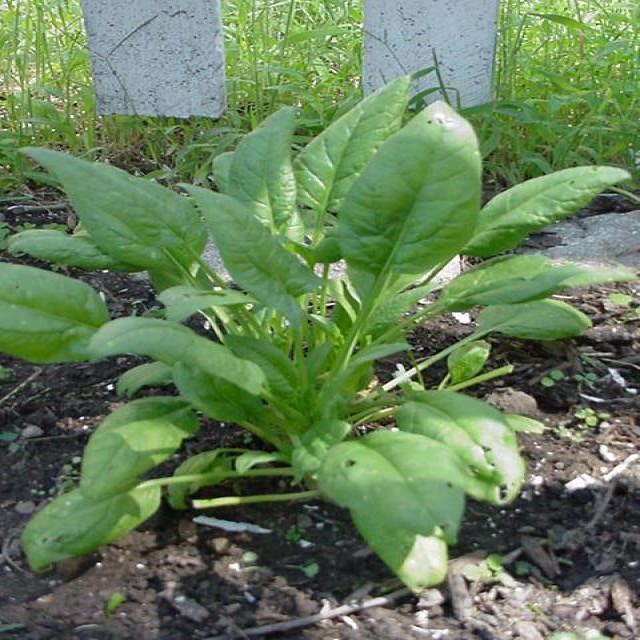spinach: (337, 101, 482, 302), (25, 149, 207, 288), (317, 430, 465, 589), (190, 186, 322, 326), (297, 78, 410, 234), (462, 166, 628, 256), (88, 318, 265, 394), (80, 396, 197, 499), (213, 108, 303, 239), (80, 430, 168, 498)
